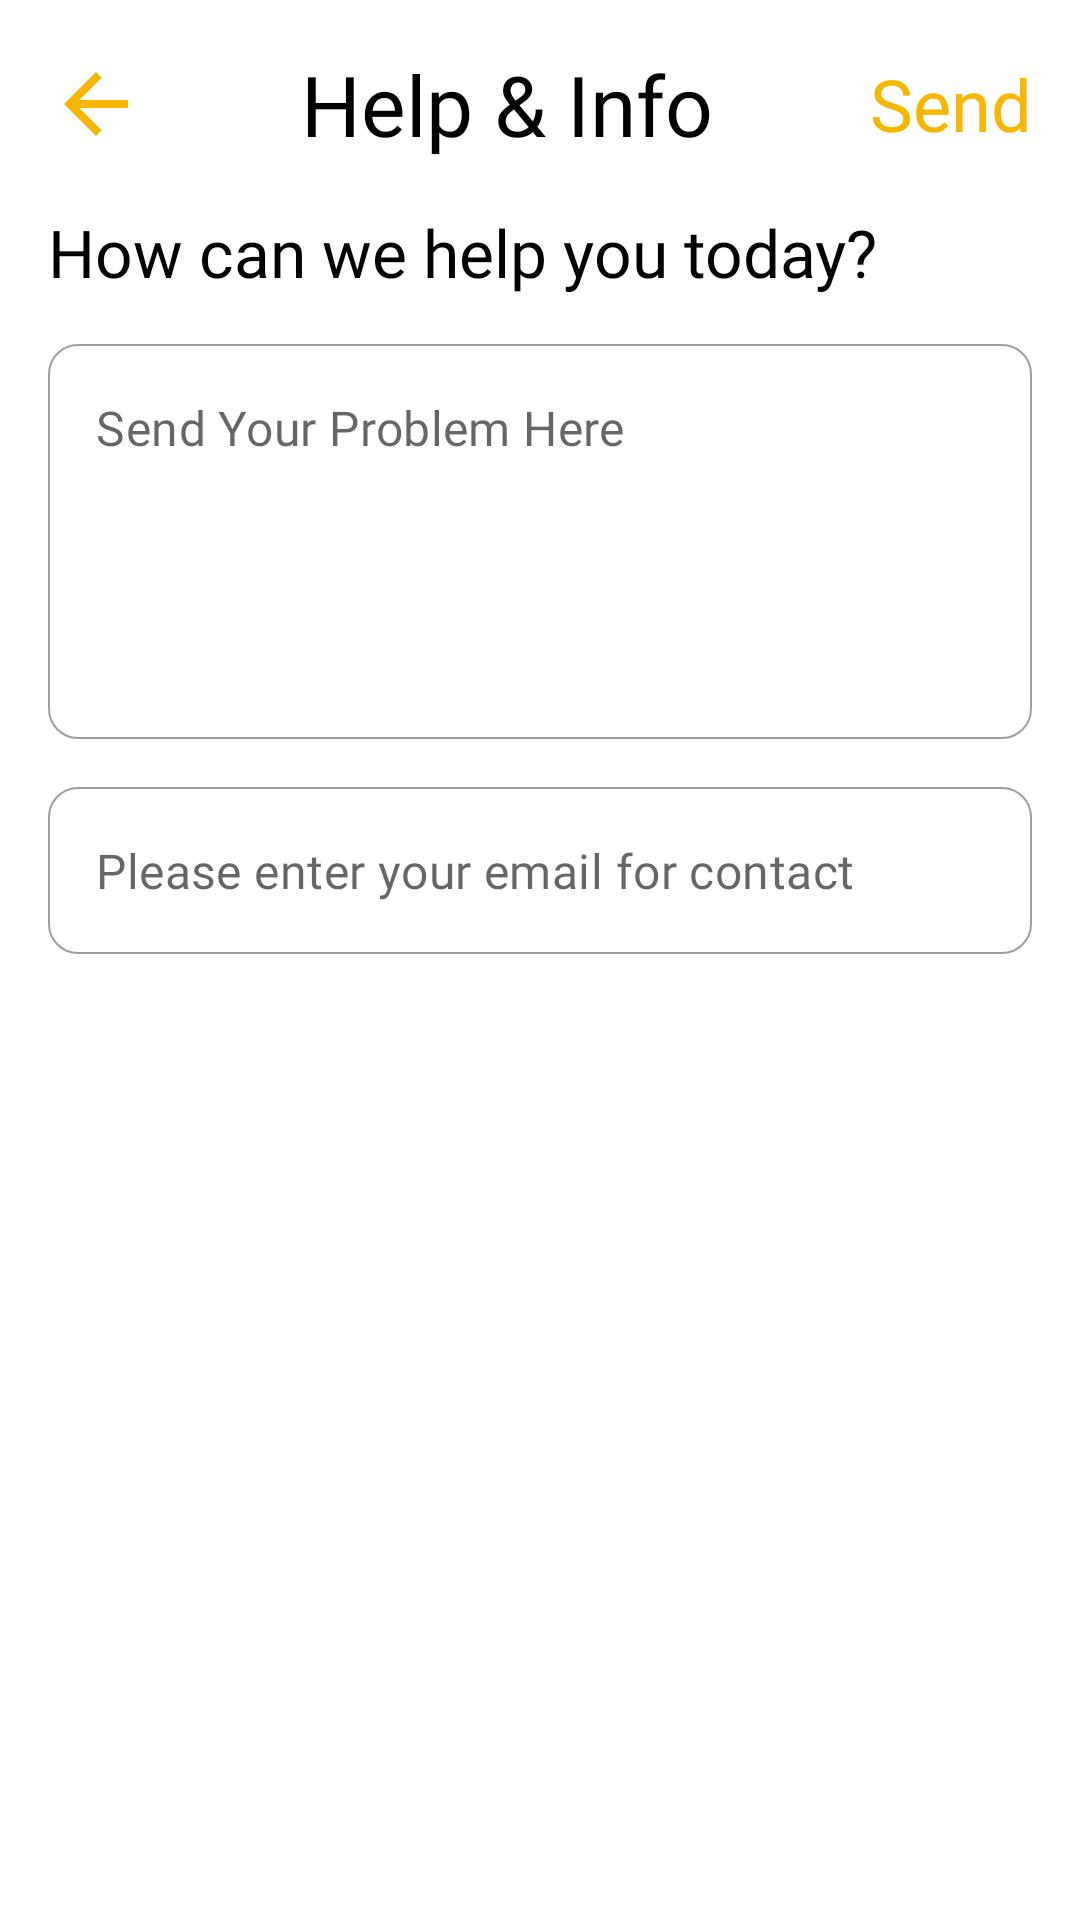

Icon bounding boxes for this 1080×1920 phone screenshot, format (x1, y1, x2, y2):
arrow back: (64, 72, 128, 136)
